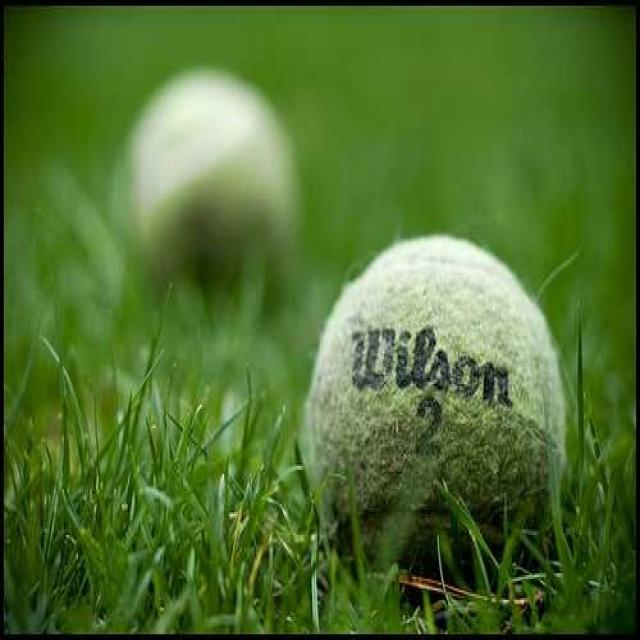Tennis_Ball: (308, 236, 561, 572), (109, 60, 294, 319)
